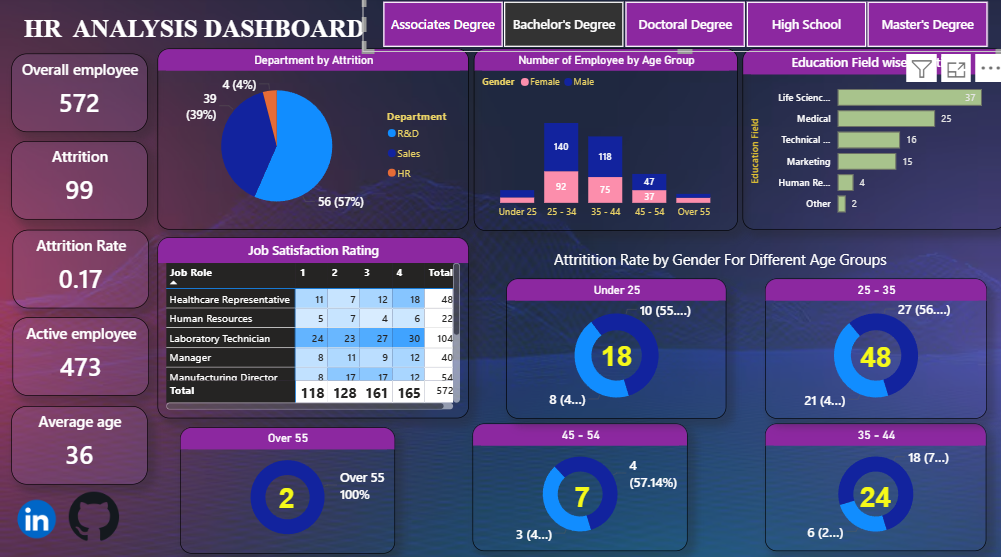

Layout of this report page (visuals, bound fields, positions):
{"tool":"powerbi","page":{"name":"Page 1","canvas":[1280,720],"ordinal":0},"visuals":[{"type":"card","title":"Overall employee","fields":{"Values":["Sum(HR data.Employee Count)"]},"box":[14.3,73.1,173.3,100],"z":0},{"type":"card","title":"Attrition","fields":{"Values":["Sum(HR data.Attition count)"]},"box":[14.3,185.2,173.3,100],"z":1000},{"type":"card","title":"Attrition Rate","fields":{"Values":["HR data.attrition rate"]},"box":[15.9,297.3,173.3,100],"z":2000},{"type":"card","title":"Active employee","fields":{"Values":["HR data.New employees"]},"box":[15.9,409.4,173.3,100],"z":3000},{"type":"card","title":"Average age","fields":{"Values":["Avg(HR data.Age)"]},"box":[14.3,521.4,173.2,100],"z":4000},{"type":"textbox","box":[25.4,17.5,453.2,66.8],"z":5000},{"type":"pieChart","title":"Department by Attrition","fields":{"Category":["HR data.Department"],"Y":["Sum(HR data.Attition count)"]},"box":[200.4,66.8,395.9,230.6],"z":6000},{"type":"columnChart","title":"Number of Employee by Age Group","fields":{"Category":["HR data.CF_age band"],"Y":["Sum(HR data.Employee Count)"],"Series":["HR data.Gender"]},"box":[602.5,66.1,335.7,232.1],"z":7000},{"type":"pivotTable","title":"Job Satisfaction Rating","fields":{"Rows":["HR data.Job Role"],"Columns":["HR data.Job Satisfaction"],"Values":["Sum(HR data.Employee Count)"]},"box":[200.4,306.9,395.9,230.6],"z":8000},{"type":"barChart","title":"Education Field wise Attrition","fields":{"Category":["HR data.Education Field"],"Y":["Sum(HR data.Attition count)"]},"box":[944.5,66.8,335.5,230.6],"z":9000},{"type":"donutChart","title":"35 - 44","fields":{"Category":["HR data.Gender"],"Y":["Sum(HR data.Attition count)"],"Series":["HR data.CF_age band"]},"box":[973.2,543.8,281.5,162.2],"z":10000},{"type":"textbox","box":[699.7,318,472.3,38.2],"z":11000},{"type":"donutChart","title":"45 - 54","fields":{"Category":["HR data.Gender"],"Y":["Sum(HR data.Attition count)"],"Series":["HR data.CF_age band"]},"box":[600.7,543.8,273.5,162.2],"z":12000},{"type":"donutChart","title":"25 - 35","fields":{"Category":["HR data.Gender"],"Y":["Sum(HR data.Attition count)"],"Series":["HR data.CF_age band"]},"box":[973.2,358.9,282.1,178.6],"z":13000},{"type":"donutChart","title":"Over 55","fields":{"Category":["HR data.Gender"],"Y":["Sum(HR data.Attition count)"],"Series":["HR data.CF_age band"]},"box":[228.6,548.2,273.2,160.7],"z":14000},{"type":"donutChart","title":"Under 25","fields":{"Category":["HR data.Gender"],"Y":["Sum(HR data.Attition count)"],"Series":["HR data.CF_age band"]},"box":[644.6,358.9,280.4,178.6],"z":15000},{"type":"slicer","fields":{"Values":["HR data.Education"]},"box":[461.1,0,818.9,71.6],"z":16000},{"type":"advanceCardE03760C5AB684758B56AA29F9E6C257B","fields":{"mainMeasure":["Sum(HR data.Attition count)"]},"box":[741.1,423.2,87.5,71.4],"z":17000},{"type":"advanceCardE03760C5AB684758B56AA29F9E6C257B","fields":{"mainMeasure":["Sum(HR data.Attition count)"]},"box":[1026.8,557.1,173.2,162.5],"z":18000},{"type":"advanceCardE03760C5AB684758B56AA29F9E6C257B","fields":{"mainMeasure":["Sum(HR data.Attition count)"]},"box":[653.6,557.1,175,162.5],"z":19000},{"type":"advanceCardE03760C5AB684758B56AA29F9E6C257B","fields":{"mainMeasure":["Sum(HR data.Attition count)"]},"box":[1071.4,423.2,85.7,73.2],"z":20000},{"type":"image","box":[14.3,619.6,65,90],"z":21000},{"type":"image","box":[87.5,625,64.3,75],"z":22000},{"type":"advanceCardE03760C5AB684758B56AA29F9E6C257B","fields":{"mainMeasure":["Sum(HR data.Attition count)"]},"box":[300.9,587.8,128.3,102.6],"z":23000}]}

Visuals, with their boxes in screenshot pixels (x1, y1, x2, y2), scaled from the page's 1280x720 canvas onto the 1001x557 screenshot:
"Overall employee" card: [11, 57, 147, 134]
"Attrition" card: [11, 143, 147, 221]
"Attrition Rate" card: [12, 230, 148, 307]
"Active employee" card: [12, 317, 148, 394]
"Average age" card: [11, 403, 147, 481]
textbox: [20, 14, 374, 65]
"Department by Attrition" pieChart: [157, 52, 466, 230]
"Number of Employee by Age Group" columnChart: [471, 51, 734, 231]
"Job Satisfaction Rating" pivotTable: [157, 237, 466, 416]
"Education Field wise Attrition" barChart: [739, 52, 1000, 230]
"35 - 44" donutChart: [761, 421, 981, 546]
textbox: [547, 246, 917, 276]
"45 - 54" donutChart: [470, 421, 684, 546]
"25 - 35" donutChart: [761, 278, 982, 416]
"Over 55" donutChart: [179, 424, 392, 548]
"Under 25" donutChart: [504, 278, 723, 416]
slicer - HR data.Education: [361, 0, 1000, 55]
advanceCardE03760C5AB684758B56AA29F9E6C257B - Sum(HR data.Attition count): [580, 327, 648, 383]
advanceCardE03760C5AB684758B56AA29F9E6C257B - Sum(HR data.Attition count): [803, 431, 938, 556]
advanceCardE03760C5AB684758B56AA29F9E6C257B - Sum(HR data.Attition count): [511, 431, 648, 556]
advanceCardE03760C5AB684758B56AA29F9E6C257B - Sum(HR data.Attition count): [838, 327, 905, 384]
image: [11, 479, 62, 549]
image: [68, 484, 119, 542]
advanceCardE03760C5AB684758B56AA29F9E6C257B - Sum(HR data.Attition count): [235, 455, 336, 534]
